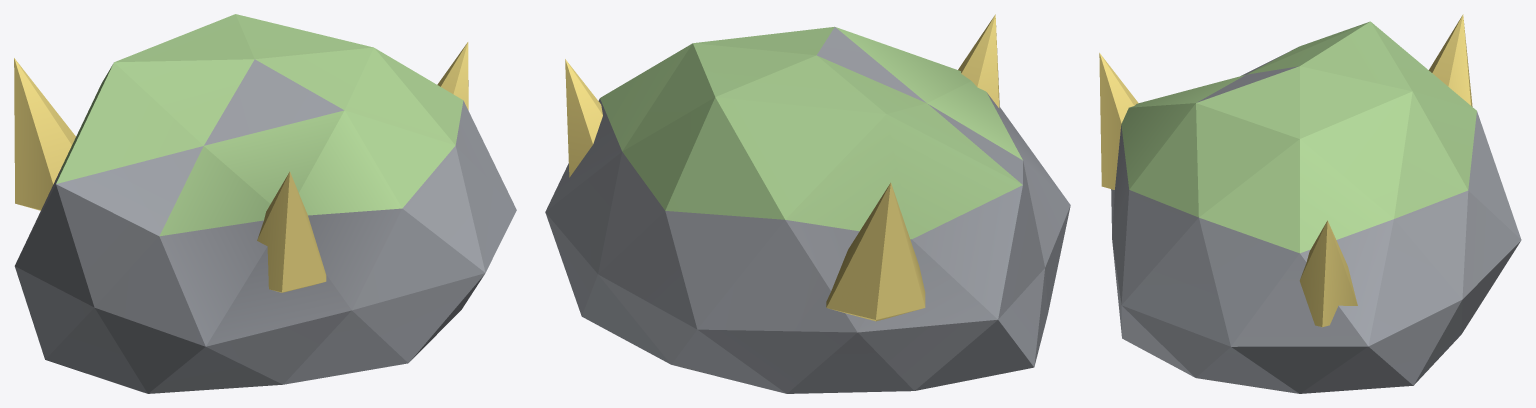
File: VRock_A.fbx
The picture shows the model from 3 angles, left to right: view 1: azimuth 30°, elevation 25°; view 2: azimuth 150°, elevation 25°; view 3: azimuth 270°, elevation 25°; orthographic projection. The views are drawn at different scales.
Visible parts, largest first — view 1: VRock_A; view 2: VRock_A; view 3: VRock_A.
Part boxes in pixels (x1=…): VRock_A: x1=14, y1=14, x2=516, y2=393; VRock_A: x1=545, y1=14, x2=1070, y2=393; VRock_A: x1=1099, y1=14, x2=1521, y2=393.
Bounding box in the file's own units: 1.21 × 0.6991 × 1.05.
